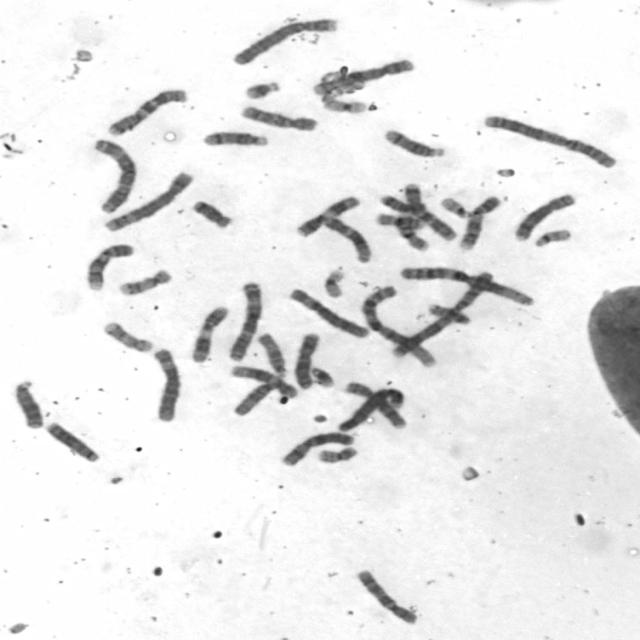A1: (357, 282, 442, 368), (396, 262, 538, 308)
A2: (386, 267, 498, 359), (479, 110, 621, 170)
A3: (87, 133, 140, 214), (224, 278, 265, 362)
B4: (228, 12, 341, 67), (336, 383, 408, 432)
B5: (100, 167, 196, 233), (308, 55, 418, 98)
C10: (352, 564, 422, 626), (235, 101, 320, 133)
C11: (291, 191, 363, 238), (187, 302, 232, 363)
C12: (318, 212, 374, 264), (227, 362, 300, 398)
C6: (284, 284, 371, 339), (147, 343, 185, 424)
C7: (103, 84, 191, 137), (396, 181, 458, 243)
C8: (510, 188, 580, 242), (336, 382, 409, 432)
C9: (82, 238, 137, 292), (455, 192, 503, 252)
D13: (41, 418, 102, 463), (8, 375, 46, 430)
D14: (378, 124, 448, 159), (198, 126, 270, 148)
D15: (230, 377, 282, 418), (253, 329, 289, 377)
E16: (392, 210, 432, 252), (371, 209, 427, 230)
E17: (98, 317, 156, 354), (113, 264, 175, 297)
E18: (187, 196, 235, 229), (381, 194, 428, 214)
F19: (318, 92, 370, 115), (319, 264, 348, 299)
F20: (424, 299, 474, 326), (313, 442, 361, 464)
G21: (239, 76, 284, 100), (306, 362, 337, 389)
G22: (530, 225, 574, 247), (437, 193, 473, 219)
X: (276, 428, 358, 468), (290, 328, 324, 390)
